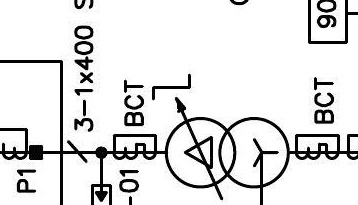11522_tx_dyn1: (164, 116, 291, 189)
